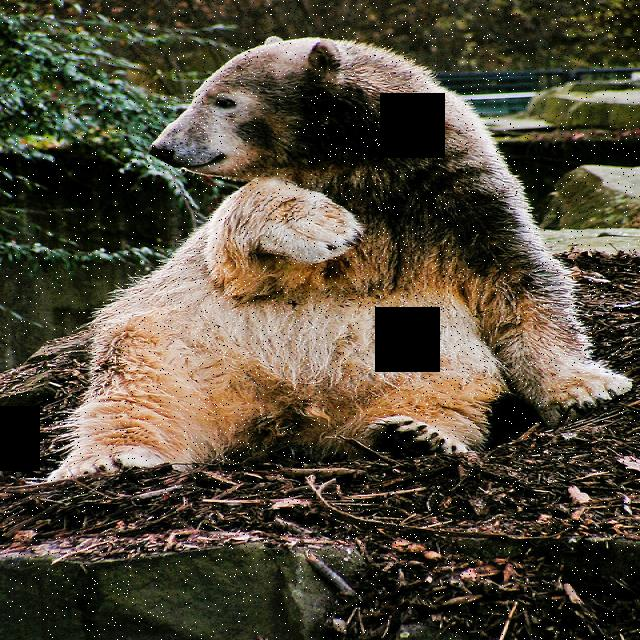Bear: (77, 17, 634, 475)
